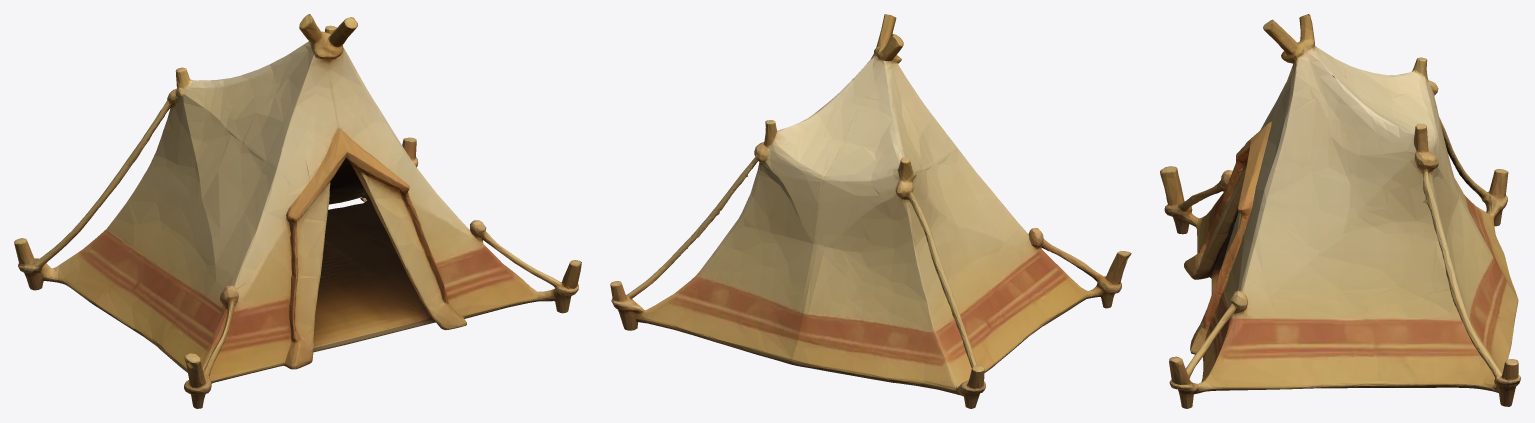
Rendered from desert_tent.glb.
The picture shows the model from 3 angles, left to right: view 1: azimuth 30°, elevation 25°; view 2: azimuth 150°, elevation 25°; view 3: azimuth 270°, elevation 25°; orthographic projection. The views are drawn at different scales.
Visible parts, largest first — view 1: world; view 2: world; view 3: world.
Boxes of the visible parts, box(x1,y1,x2,y2) form: world: box(14, 14, 581, 408); world: box(610, 14, 1131, 408); world: box(1160, 14, 1520, 408).
Bounding box in the file's own units: 0.9953 × 0.7205 × 0.7679.
Materials: 1 (1 with a texture image).
